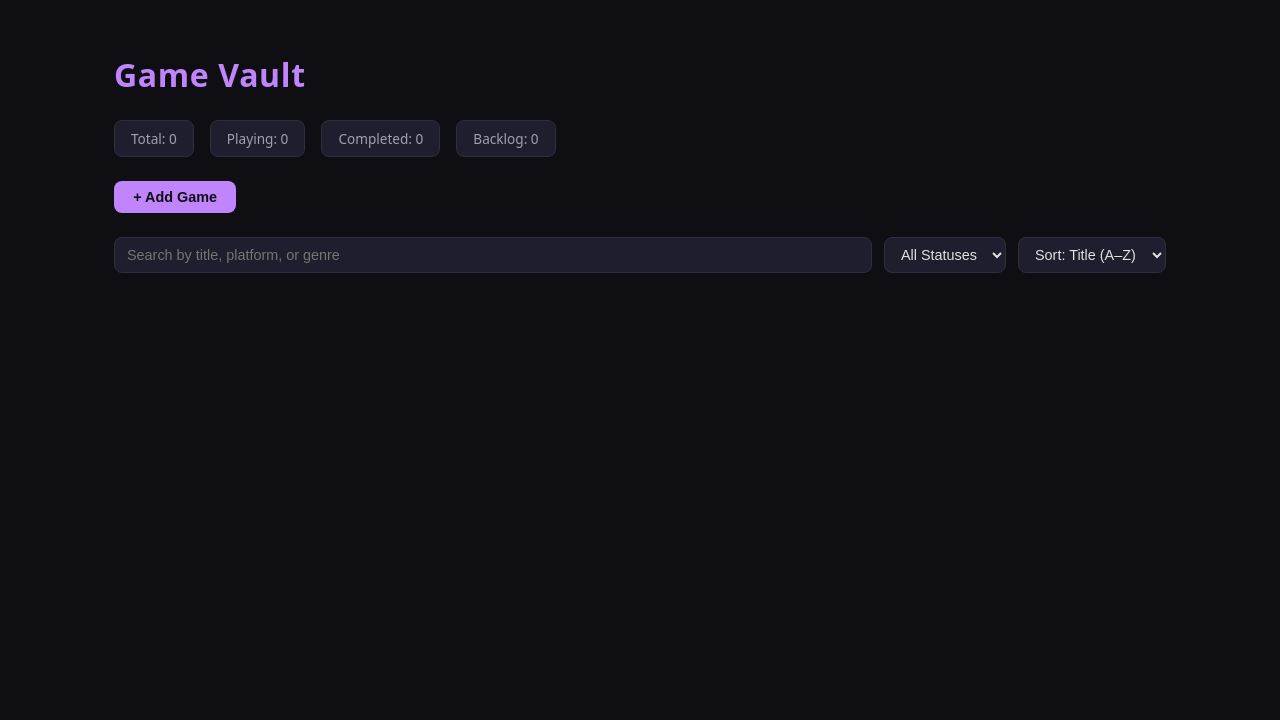
Test: Add Game › shows error when saving without a rating
Click the button "+ Add Game" at (175, 197), box [114,181,236,213]
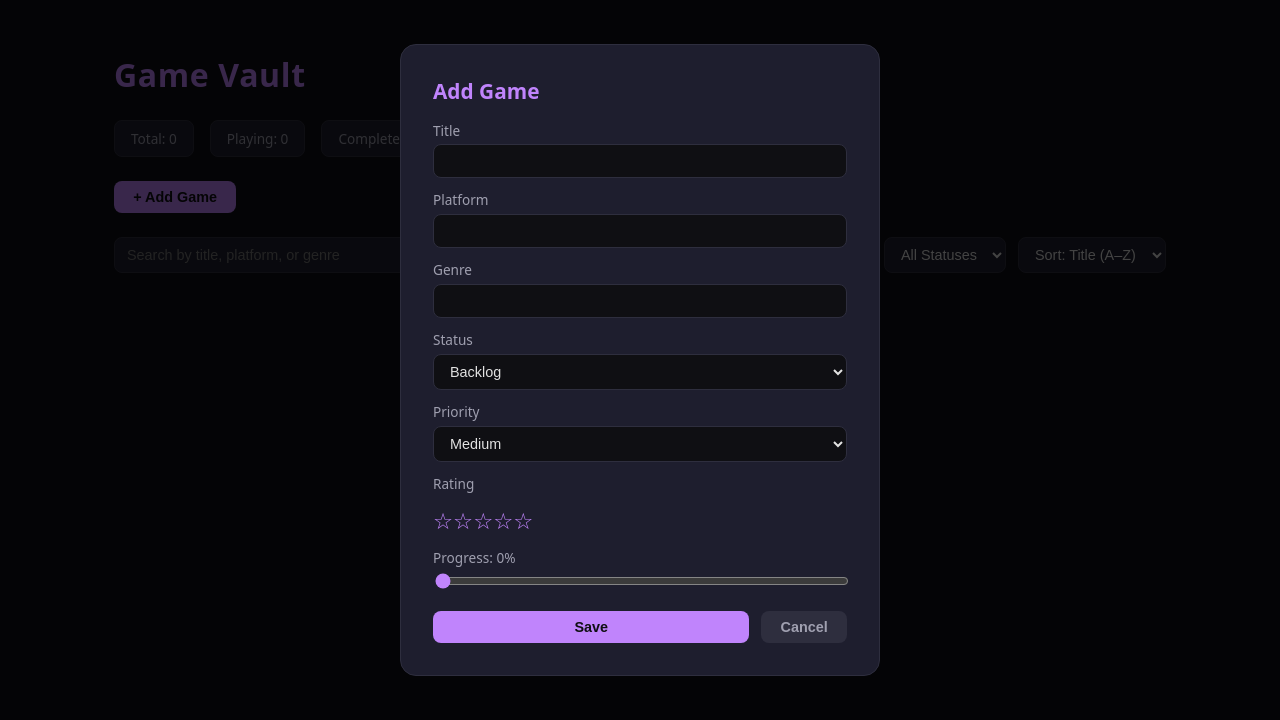
Type "Test" into the field labelled "Title" at (640, 161), box [433,144,847,178]
Type "PS4" into the field labelled "Platform" at (640, 231), box [433,214,847,248]
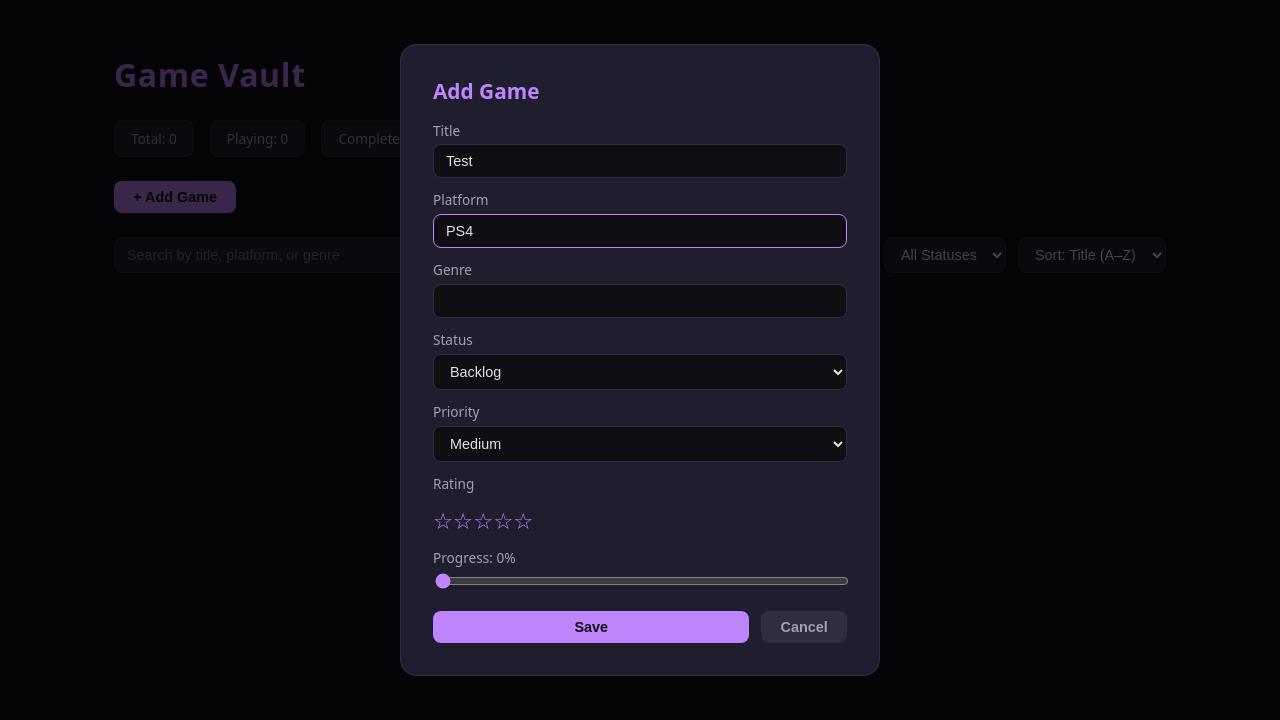
Type "RPG" into the field labelled "Genre" at (640, 301), box [433,284,847,318]
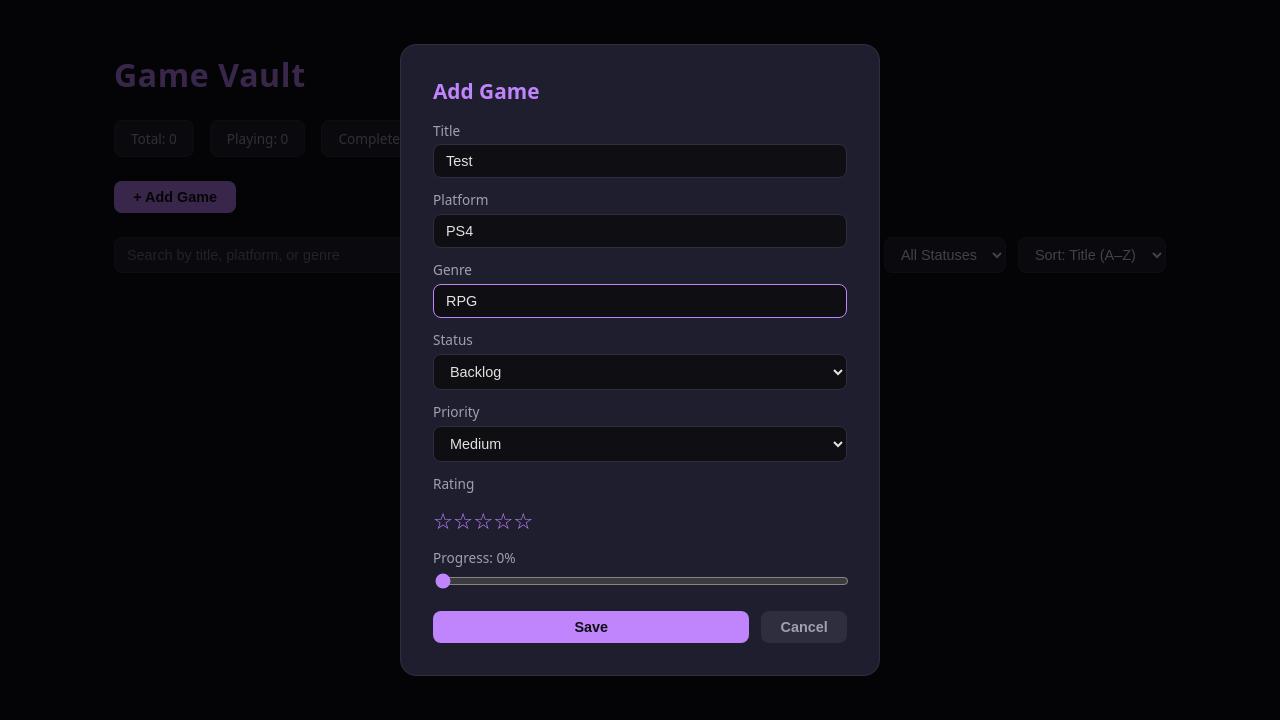
Select "Playing" in the dropdown labelled "Status" at (640, 372), box [433,354,847,390]
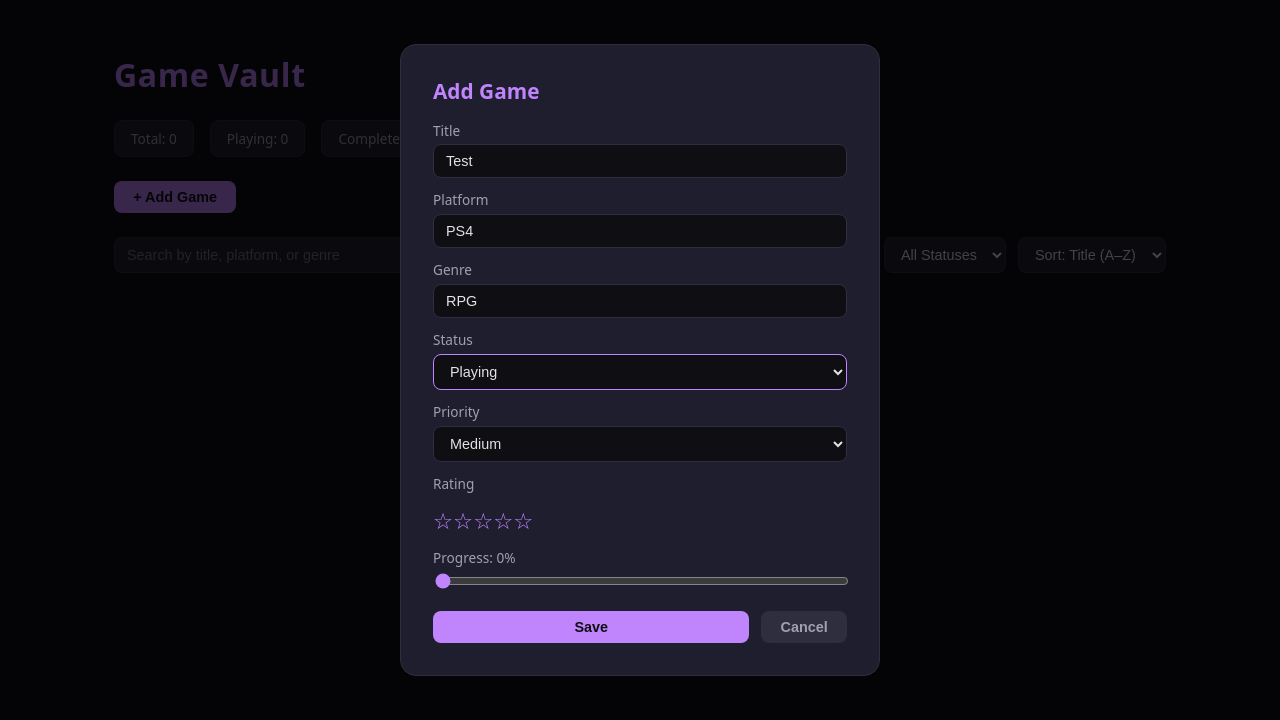
Select "High" in the dropdown labelled "Priority" at (640, 444), box [433,426,847,462]
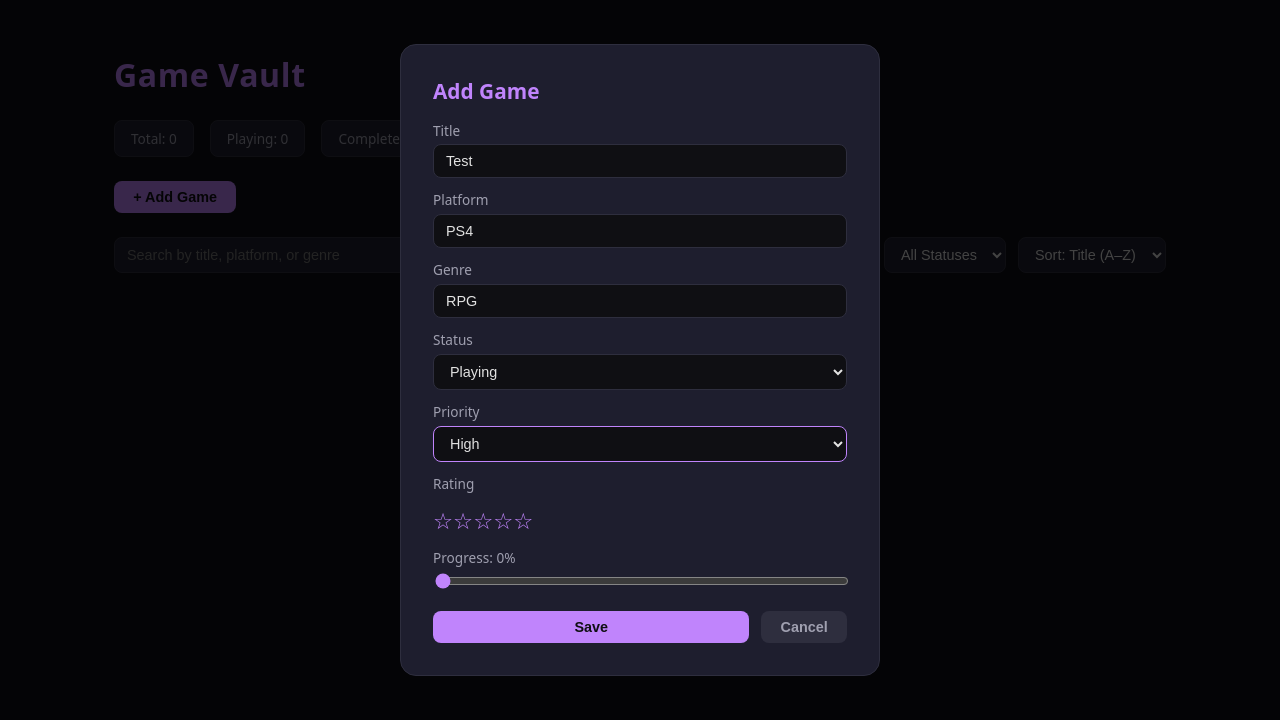
Click the button "Save" at (591, 627), box [433,611,749,643]
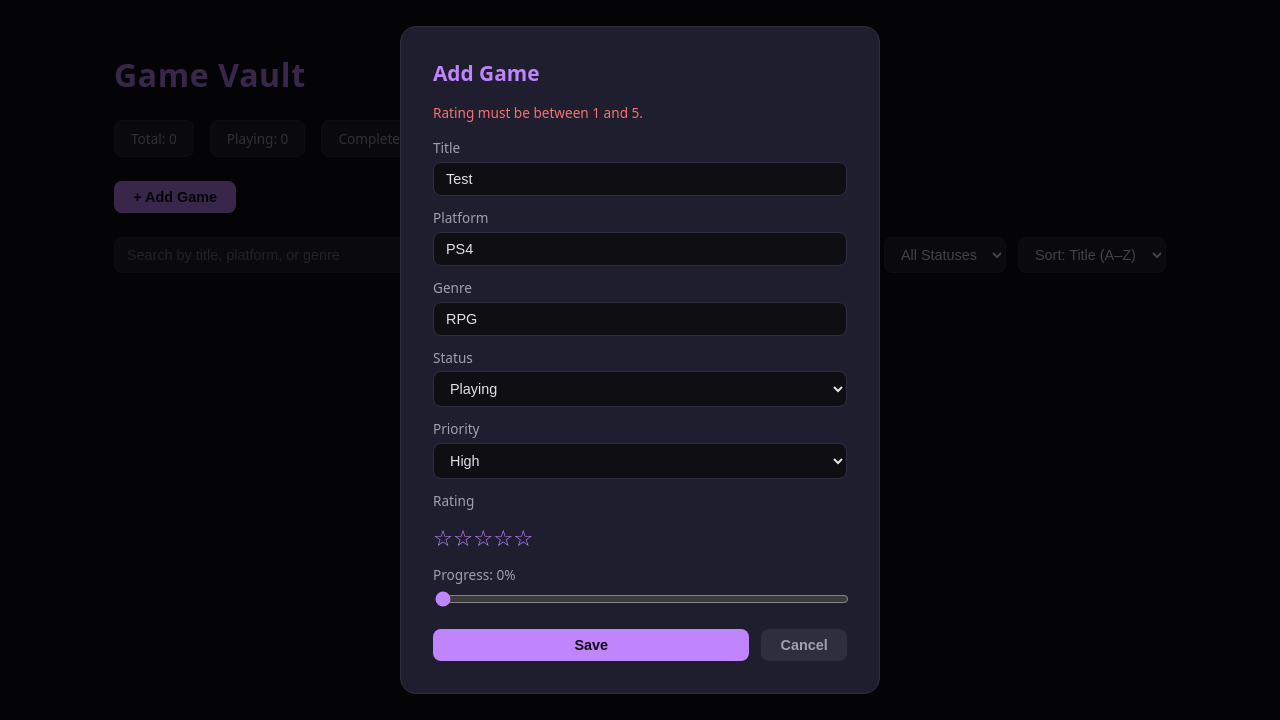
Result: the text "Rating must be between 1 and 5." is shown at [433,103,643,122]
